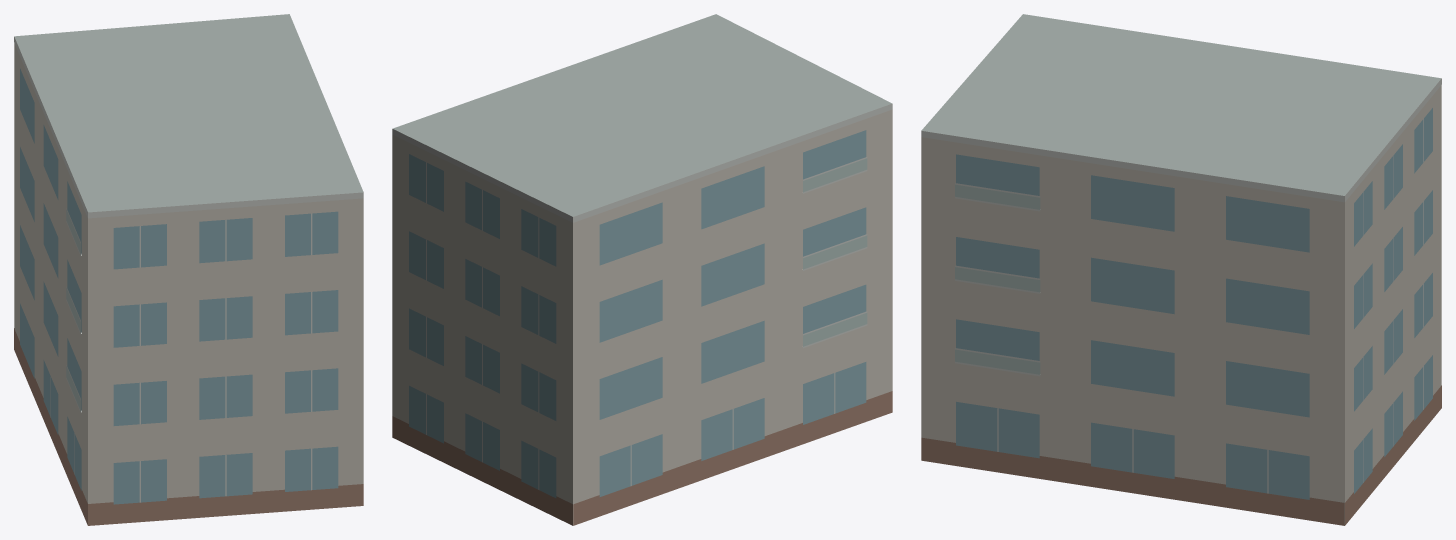
File: survey-upis-32854270.glb
3 renders of one model, left to right at view 1: azimuth 30°, elevation 25°; view 2: azimuth 150°, elevation 25°; view 3: azimuth 270°, elevation 25°, orthographic. The views are drawn at different scales.
Visible parts, largest first — view 1: survey-upis-32854270.tmp; view 2: survey-upis-32854270.tmp; view 3: survey-upis-32854270.tmp.
Boxes of the visible parts, left/top/right/bottom form: survey-upis-32854270.tmp: left=14, top=14, right=363, bottom=525; survey-upis-32854270.tmp: left=392, top=14, right=892, bottom=525; survey-upis-32854270.tmp: left=921, top=14, right=1441, bottom=525.
Bounding box in the file's own units: 15.16 × 12.8 × 18.32.
